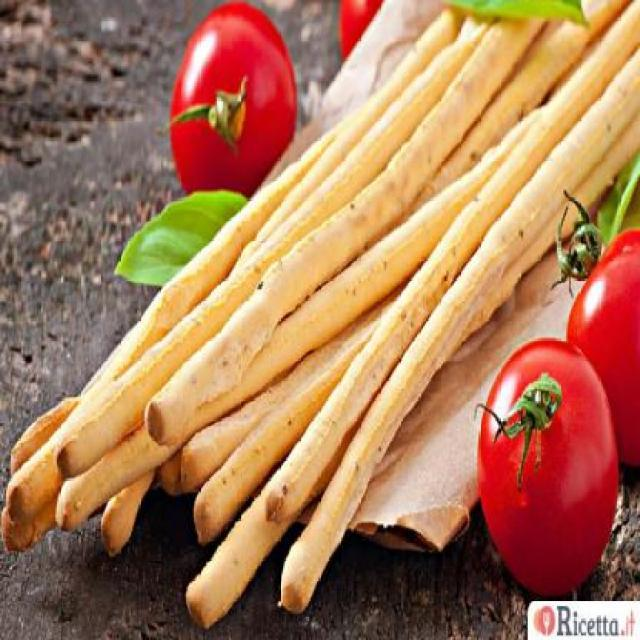Grissini: (38, 29, 620, 576)
Tomato: (474, 336, 618, 575), (168, 9, 297, 185)
